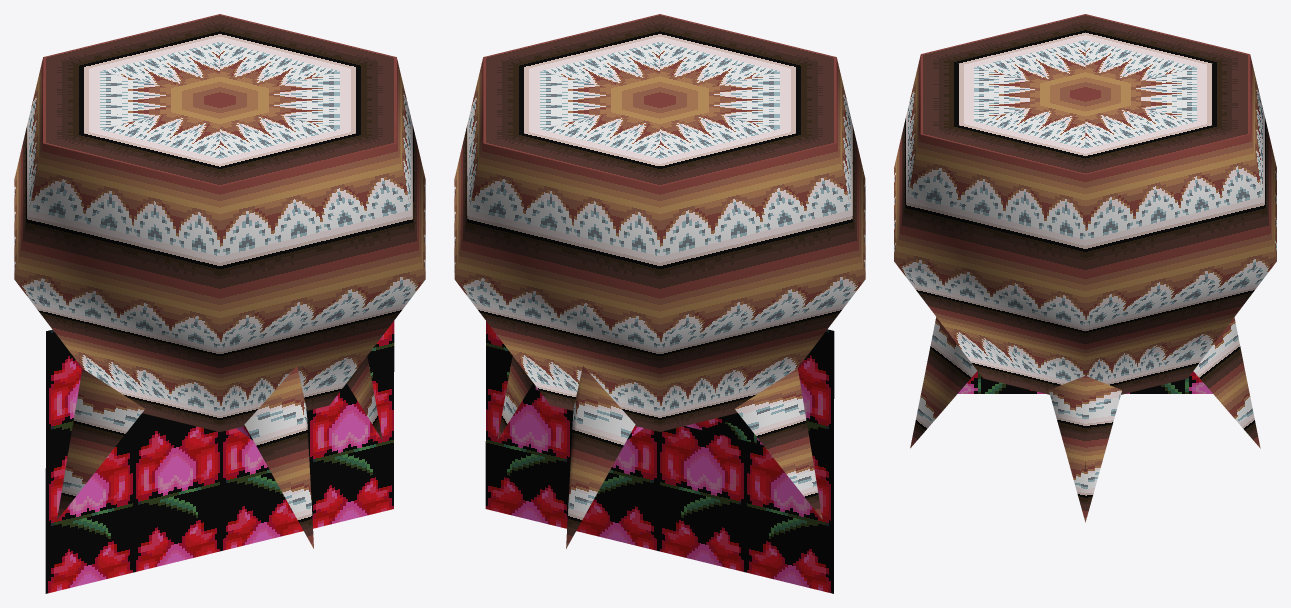
File: 0417hana_r_love_.gltf
3 views of the same model, side by side, from view 1: azimuth 30°, elevation 25°; view 2: azimuth 150°, elevation 25°; view 3: azimuth 270°, elevation 25° (orthographic). The views are drawn at different scales.
Visible parts, largest first — view 1: 0417hana_r_love_; view 2: 0417hana_r_love_; view 3: 0417hana_r_love_.
Part boxes in pixels (left/top/right/bottom): 0417hana_r_love_: left=14, top=14, right=425, bottom=593; 0417hana_r_love_: left=454, top=14, right=865, bottom=593; 0417hana_r_love_: left=894, top=14, right=1276, bottom=522.
Bounding box in the file's own units: 0.7881 × 0.8264 × 0.6821.
2 materials, 2 textured.
